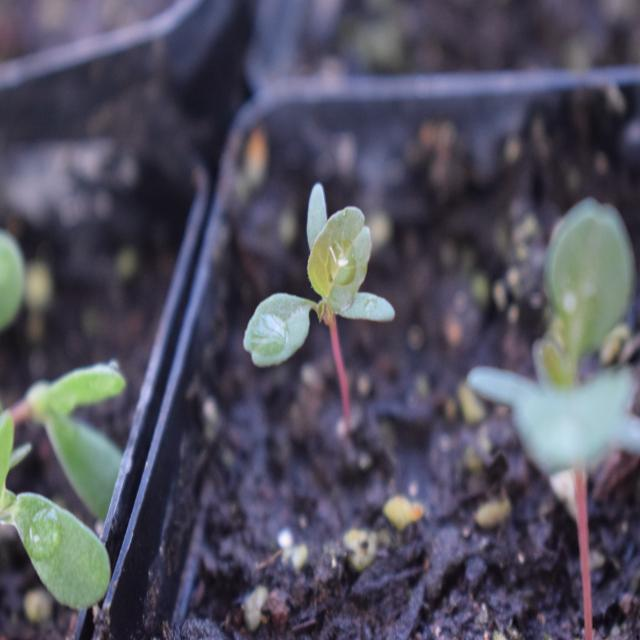pigweed: (239, 171, 408, 383)
